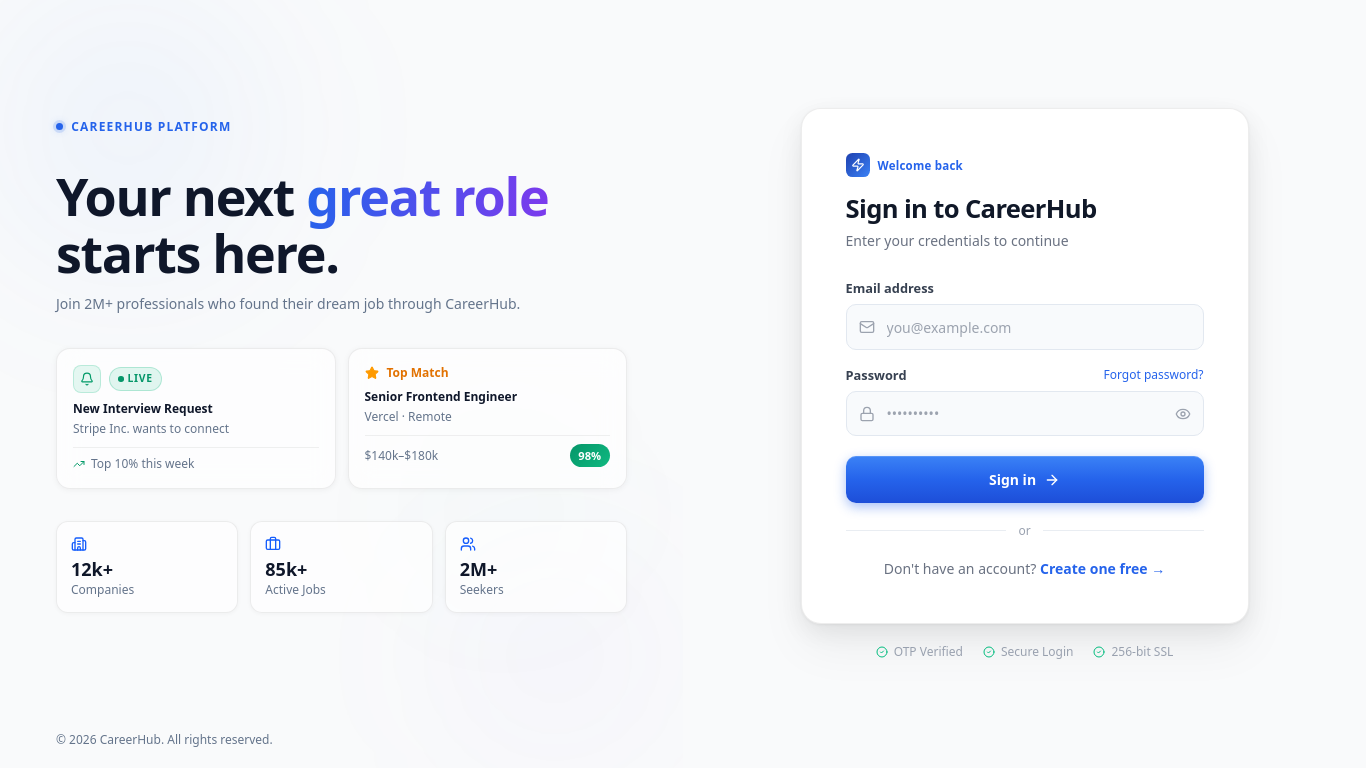
Scenario: Login page › forgot mode: empty email shows error
Click the button "Forgot password?".
click(1154, 375)  # box x1=1104 y1=367 x2=1204 y2=383
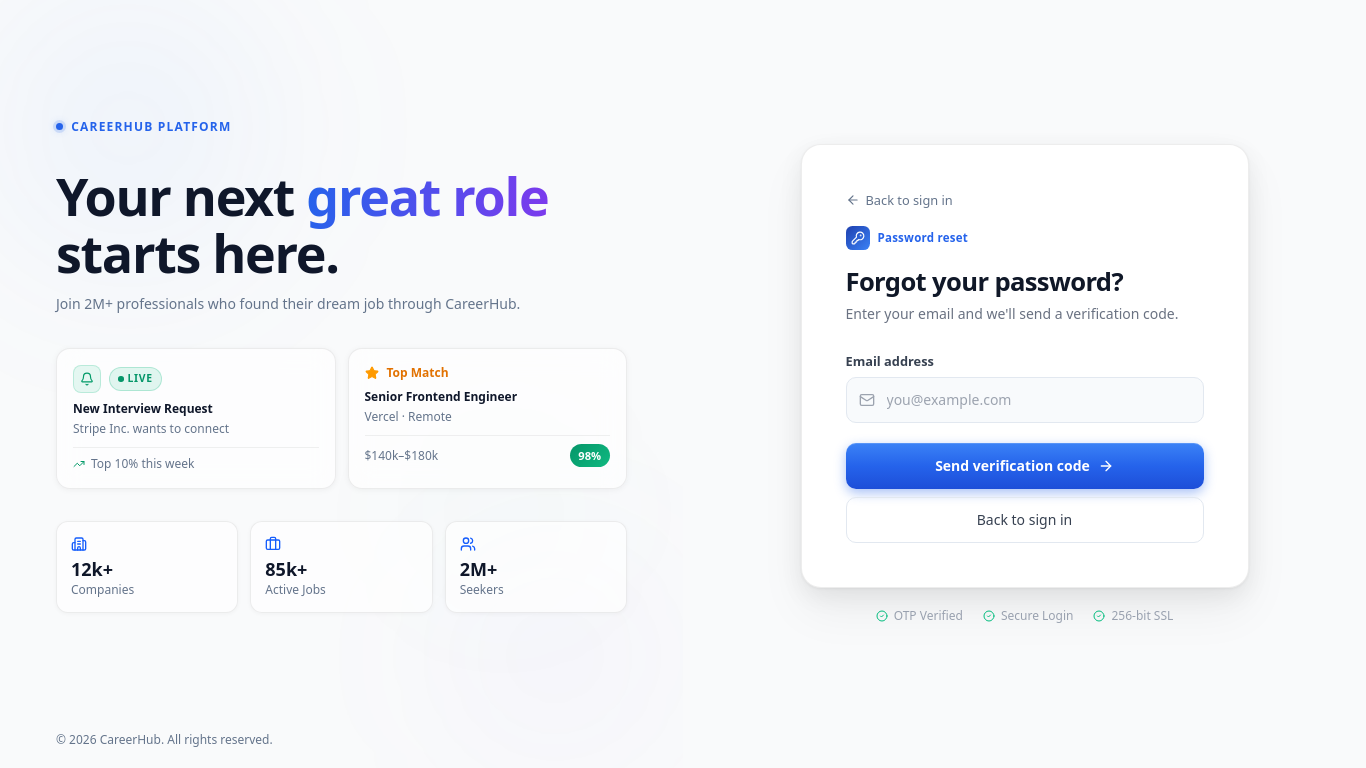
Click the button "Send verification code".
click(1024, 466)  # box x1=846 y1=443 x2=1204 y2=489
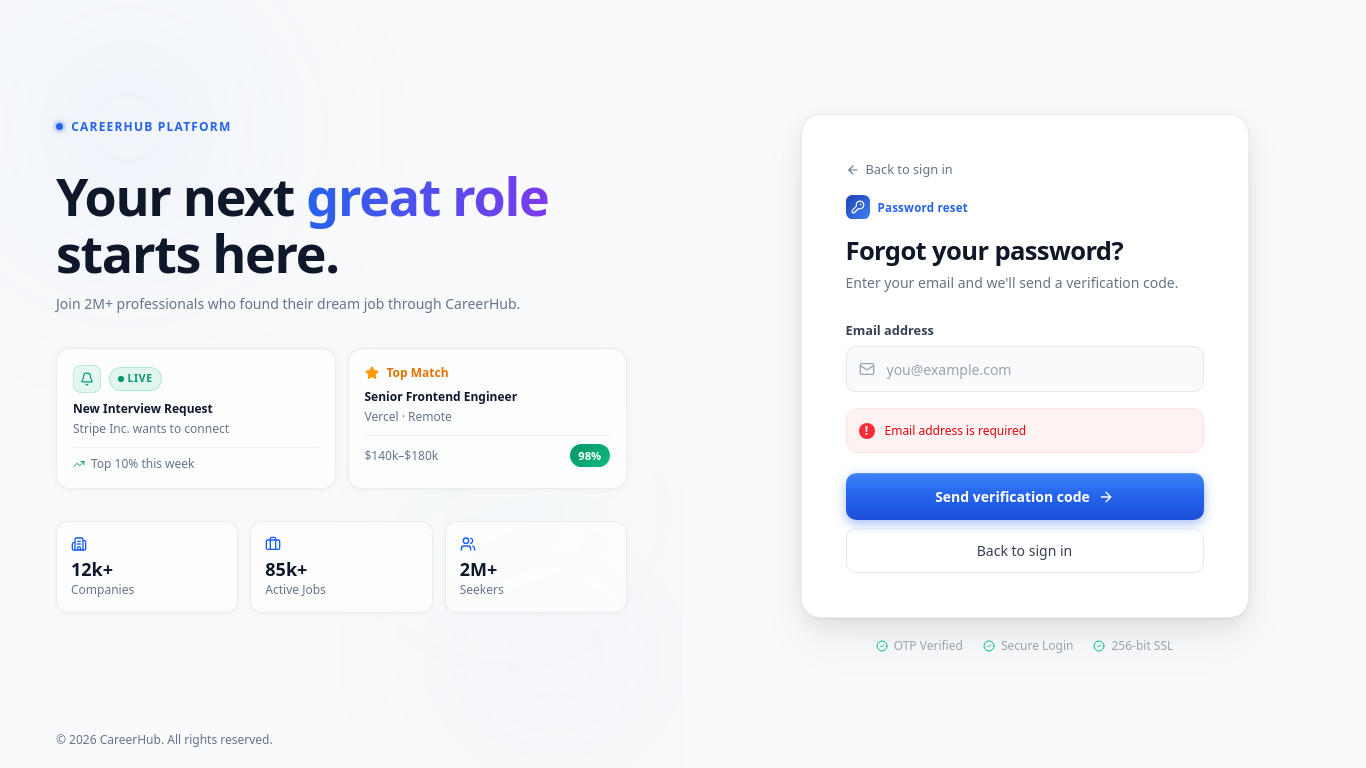
Result: the text "Email address is required" is shown at x1=884 y1=421 x2=1026 y2=440
